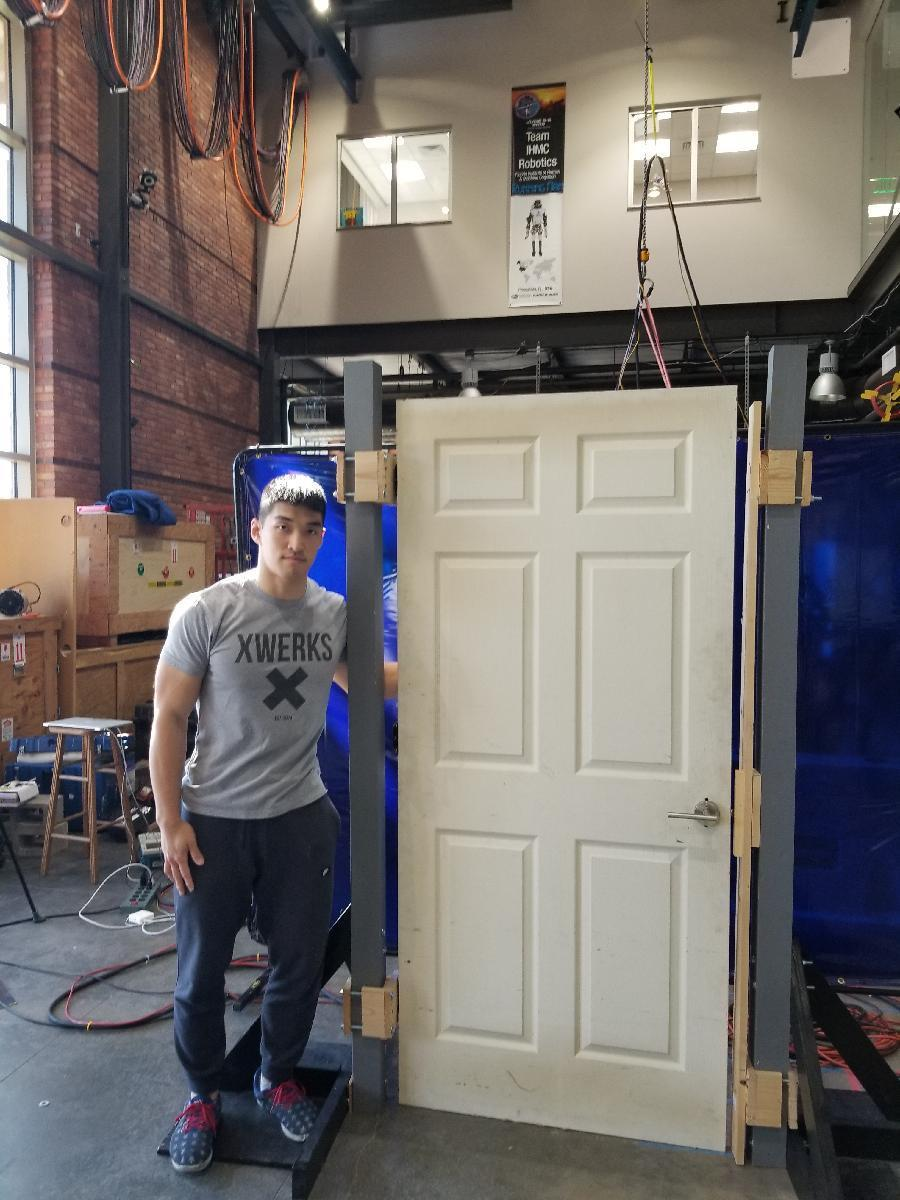door: (404, 395, 736, 1156)
handle: (666, 795, 725, 828)
